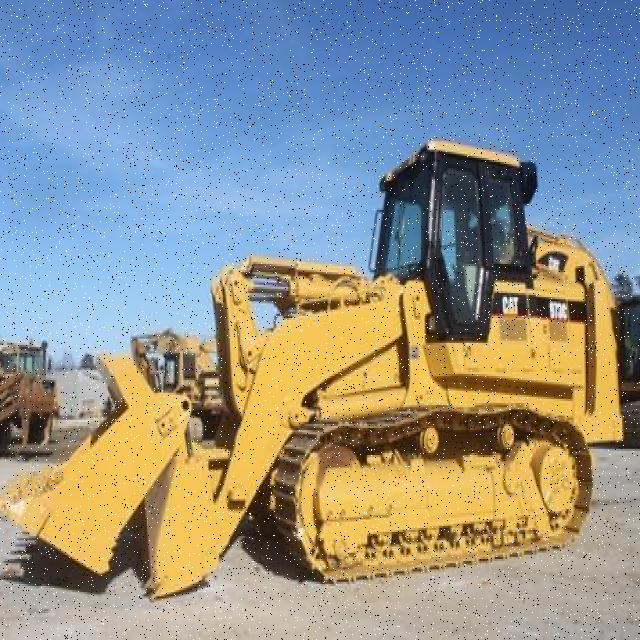Bulldozer: (9, 120, 638, 602)
